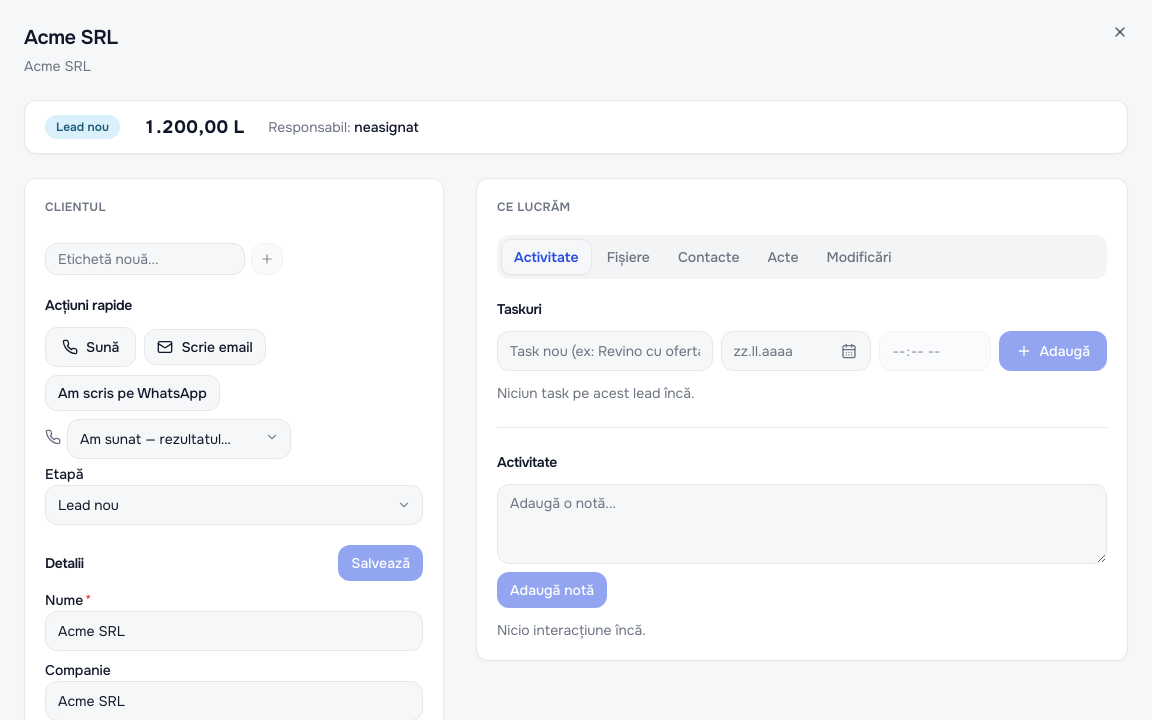
Test: Modificările din fișă › [blocant] „Istoric” arată CINE a schimbat fișa, separat de ce s-a discutat
The width and height of the screenshot is (1152, 720).
Click the tab "Modificări": x=859, y=257 [814, 239, 904, 275]
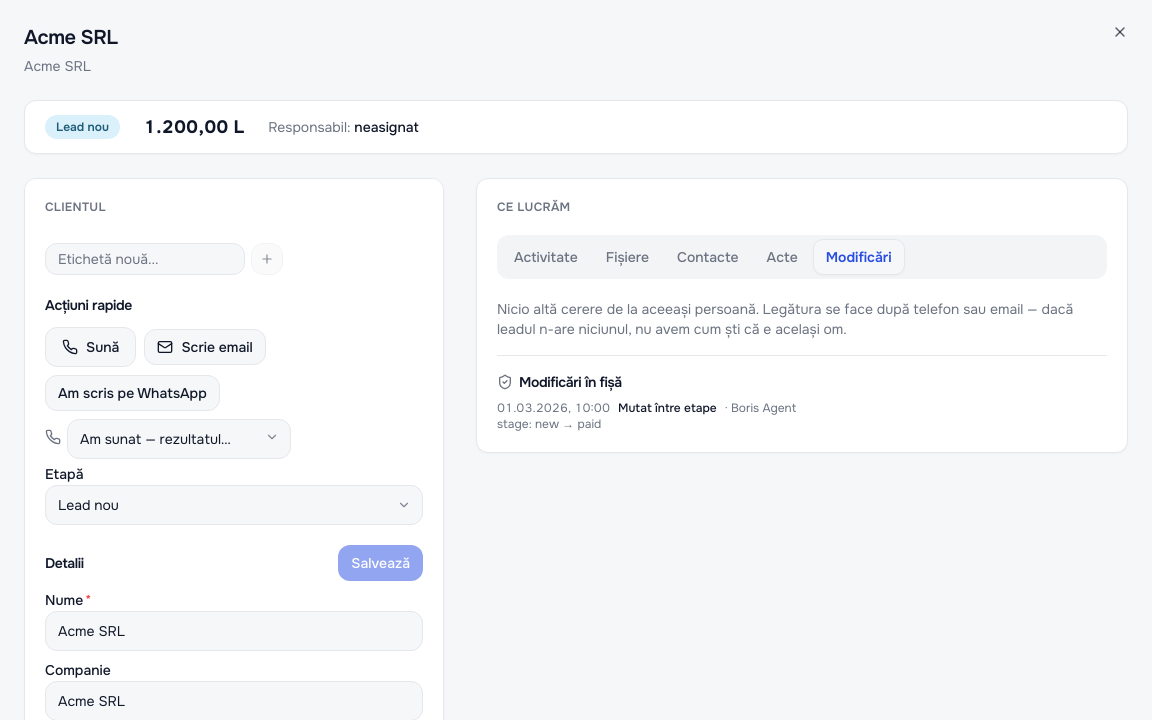
Now the text "Mutat între etape" is shown, box [618, 400, 717, 416]
Now the text "· Boris Agent" is shown, box [725, 400, 796, 416]
Now the text "stage: new → paid" is shown, box [497, 416, 601, 432]
